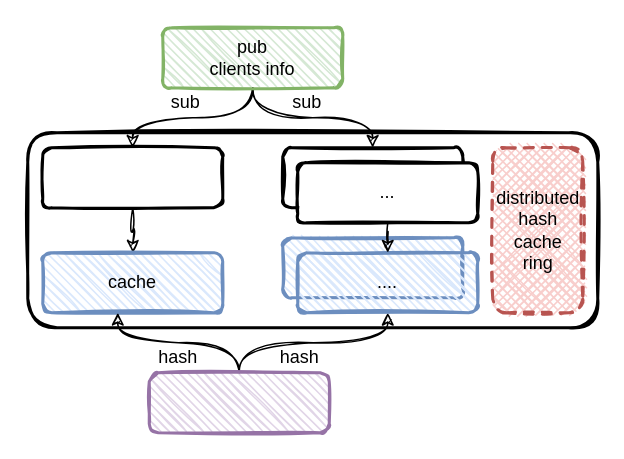
Some shapes in this 624 by 459 pixel diagram are drawn without their labels. The shapes that lost their labels are listed below. From the top down, each one's centre as x and y in pixels, then its label:
At point 132,177: "clients info".
At point 238,402: "request".
